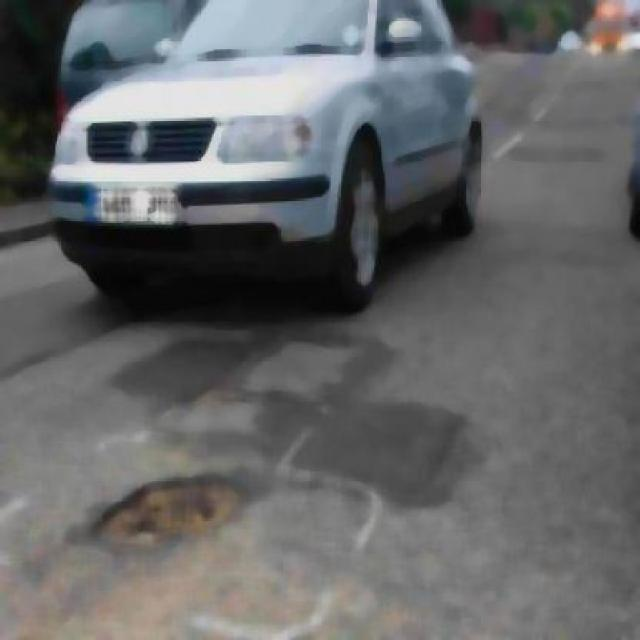Pothole: (102, 478, 230, 558)
